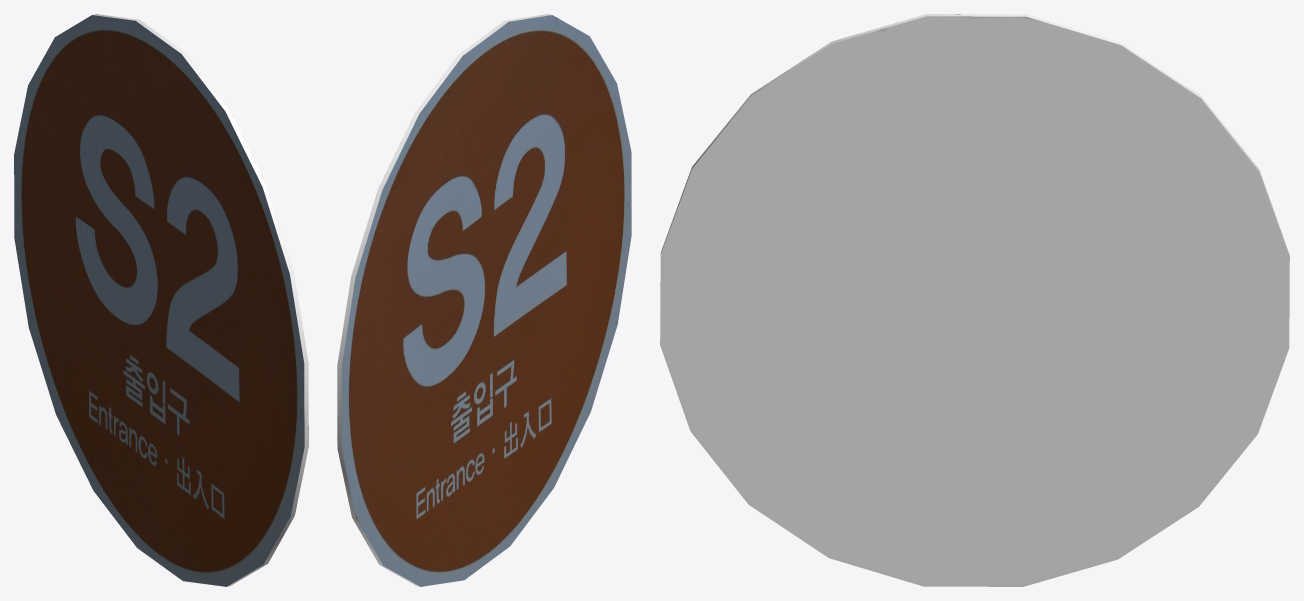
Rendered from SM_020_Seat_12_4.fbx.
3 views of the same model, side by side, from view 1: azimuth 30°, elevation 25°; view 2: azimuth 150°, elevation 25°; view 3: azimuth 270°, elevation 25° (orthographic). The views are drawn at different scales.
Parts seen in each view (by area): view 1: SM_020_Seat_12_4; view 2: SM_020_Seat_12_4; view 3: SM_020_Seat_12_4.
Boxes of the visible parts, x1,y1,x2,y2 form: SM_020_Seat_12_4: [14, 14, 308, 586]; SM_020_Seat_12_4: [337, 14, 631, 586]; SM_020_Seat_12_4: [660, 14, 1289, 586].
Bounding box in the file's own units: 0.5179 × 60.32 × 60.32.
Materials: 1 (1 with a texture image).
